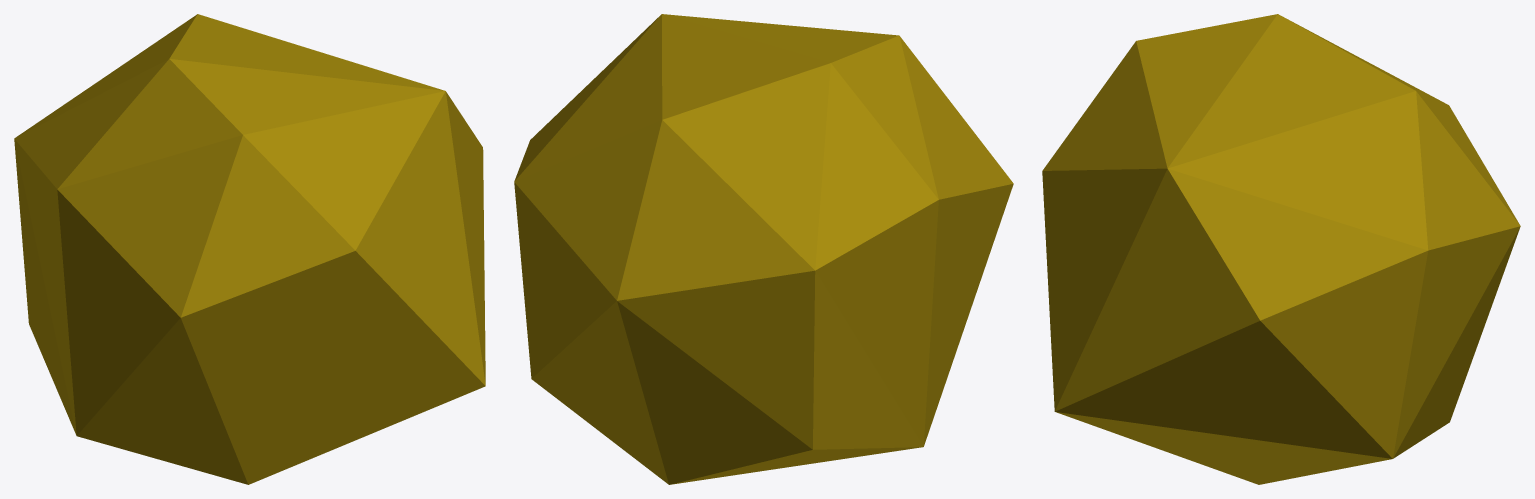
The model's file is GoldOre.fbx.
3 renders of one model, left to right at view 1: azimuth 30°, elevation 25°; view 2: azimuth 150°, elevation 25°; view 3: azimuth 270°, elevation 25°, orthographic.
Parts seen in each view (by area): view 1: VillagerRock; view 2: VillagerRock; view 3: VillagerRock.
Boxes of the visible parts, x1,y1,x2,y2 form: VillagerRock: (14, 14, 485, 484); VillagerRock: (514, 14, 1013, 484); VillagerRock: (1042, 14, 1520, 484).
Size of the model in its own units: 40.79 by 39.2 by 40.66.
